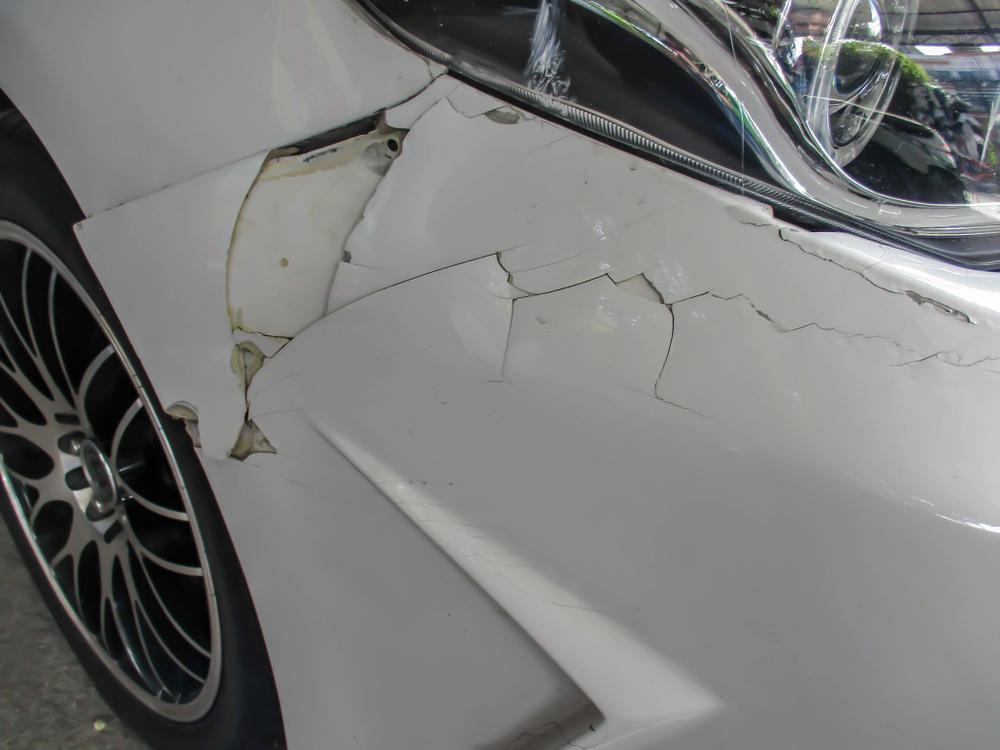crack: (167, 97, 1000, 464), (743, 211, 975, 324)
